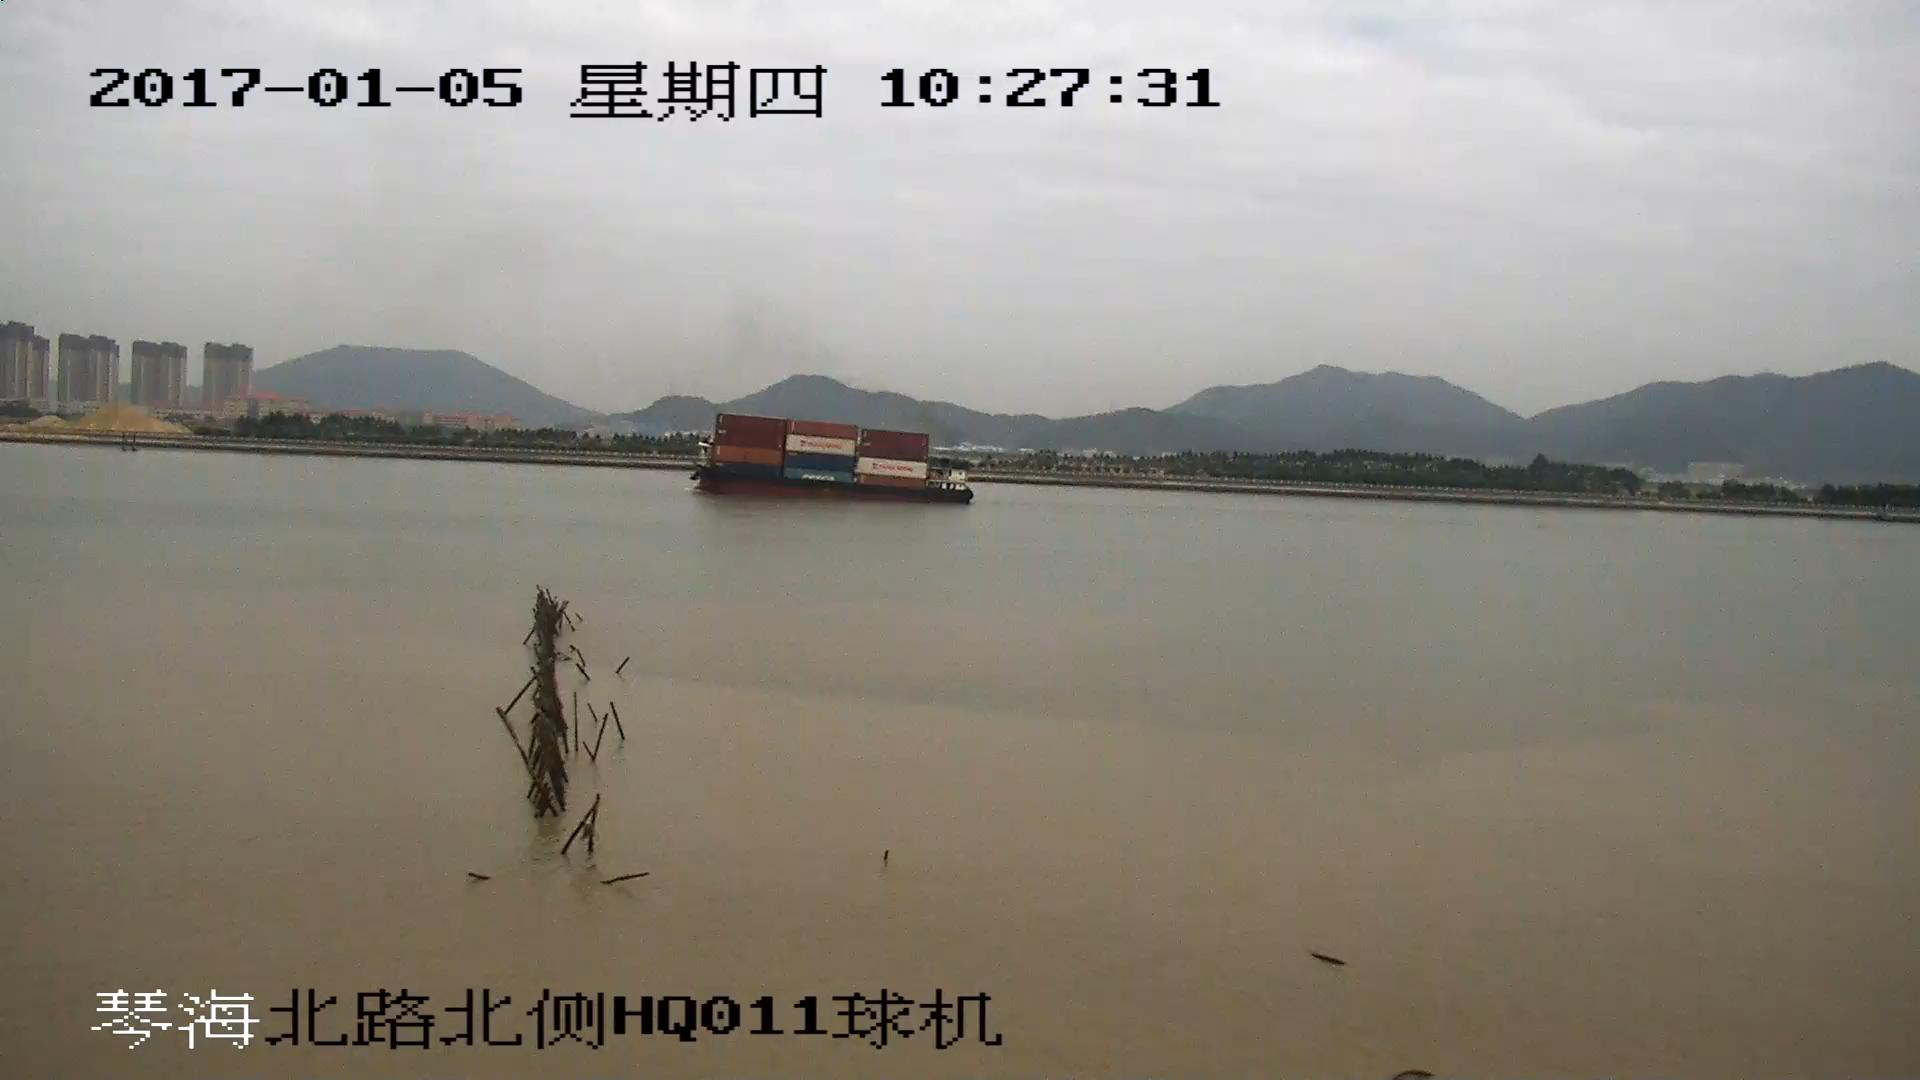container ship: (680, 408, 970, 503)
